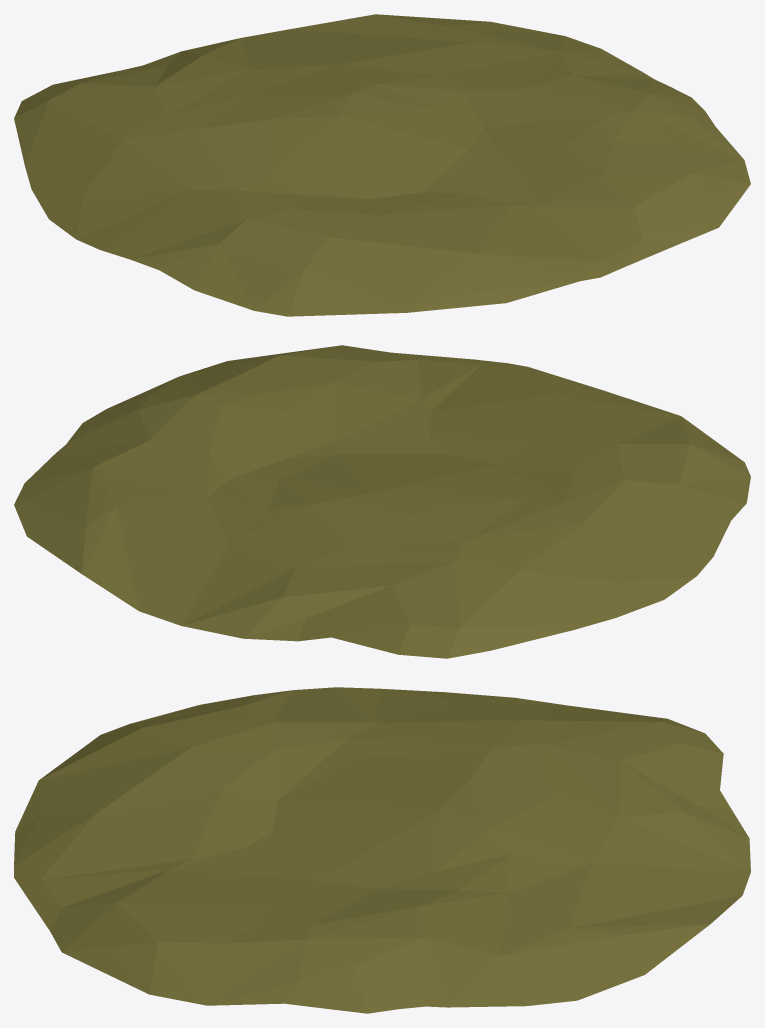
File: EA_M_Env_Grass_03a.fbx
3 renders of one model, top to bottom at view 1: azimuth 30°, elevation 25°; view 2: azimuth 150°, elevation 25°; view 3: azimuth 270°, elevation 25°, orthographic. The views are drawn at different scales.
Parts seen in each view (by area): view 1: EA_M_Env_Grass_03a_LOD0; view 2: EA_M_Env_Grass_03a_LOD0; view 3: EA_M_Env_Grass_03a_LOD0.
Part boxes in pixels (x1,y1,x2,y2): EA_M_Env_Grass_03a_LOD0: [14, 14, 750, 316]; EA_M_Env_Grass_03a_LOD0: [14, 345, 750, 658]; EA_M_Env_Grass_03a_LOD0: [14, 687, 750, 1013].
Size of what is drawn, in the model's own units: 7.19 by 0.4229 by 6.95.
